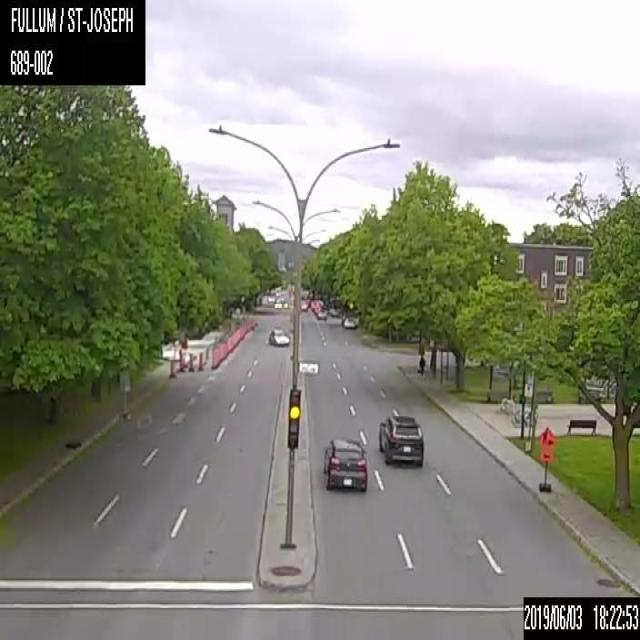construction: (536, 423, 556, 492), (168, 358, 175, 378), (177, 350, 184, 370), (187, 352, 194, 371), (210, 349, 216, 369), (197, 352, 203, 370)
pedestrian: (419, 354, 425, 374)
vehicle: (322, 433, 367, 491), (377, 412, 423, 467), (268, 327, 289, 345), (340, 309, 357, 328), (317, 309, 326, 320), (273, 298, 282, 308)
